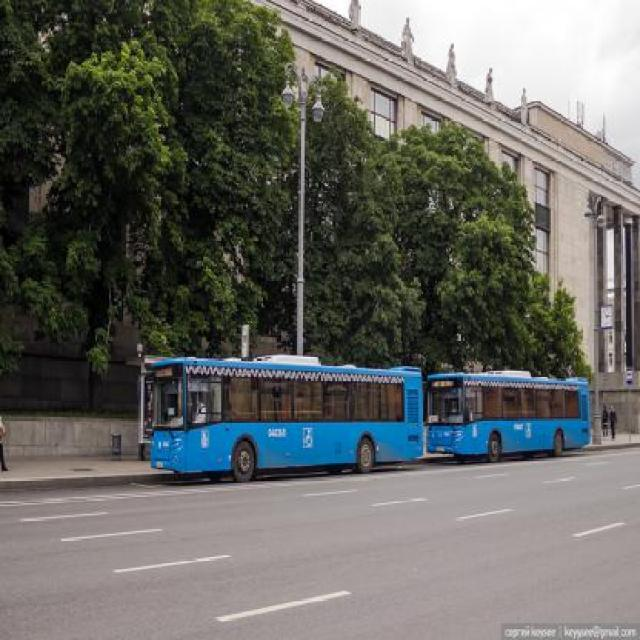bus: (140, 352, 426, 476), (432, 366, 591, 460)
